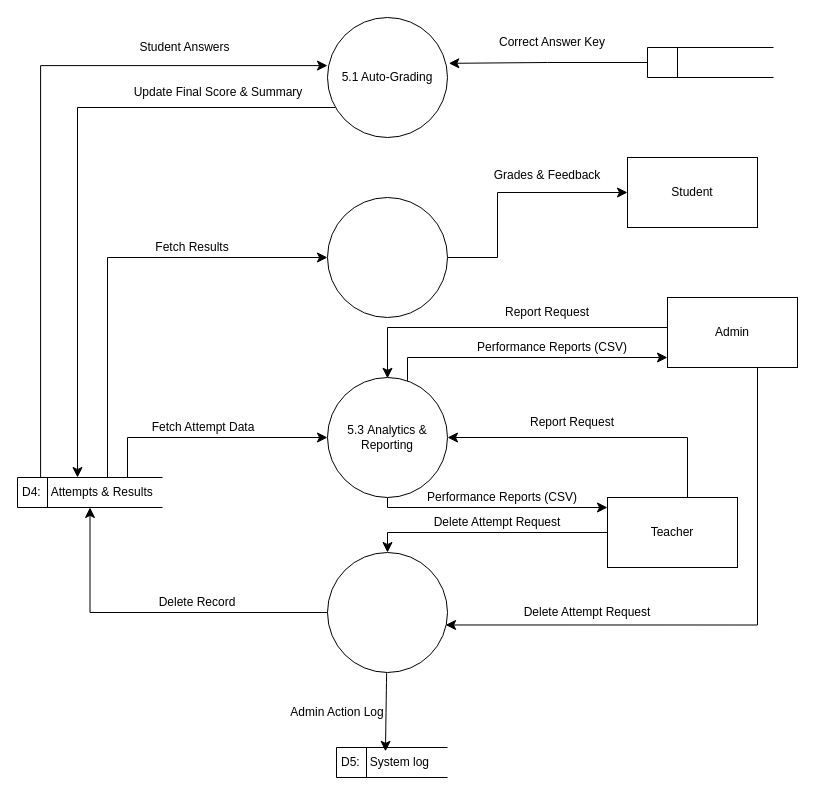
Some shapes in this 815 by 795 pixel diagram are drawn without their labels. The shapes that lost their labels are listed below. From the top down, each one's centre as x and y in pixels, then its label:
At point 710,62: "D2: Question Bank".
At point 387,257: "5.2 Generate Feedback".
At point 387,612: "5.4 Manage Attempts".
